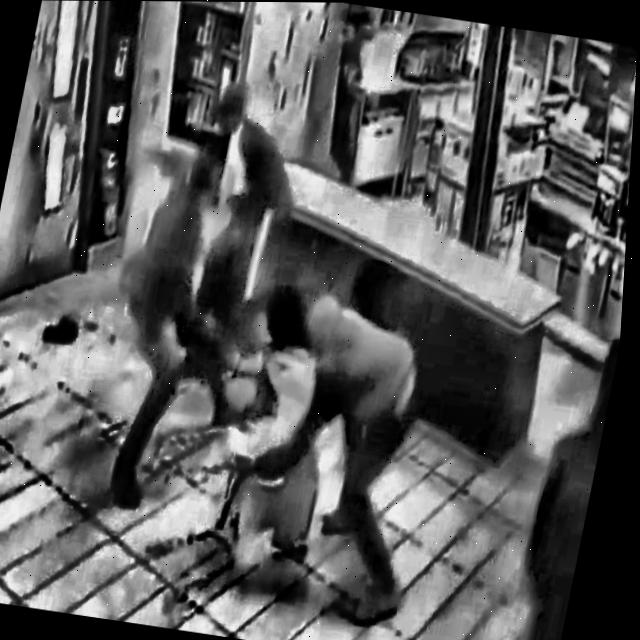robbery: (90, 80, 448, 638)
